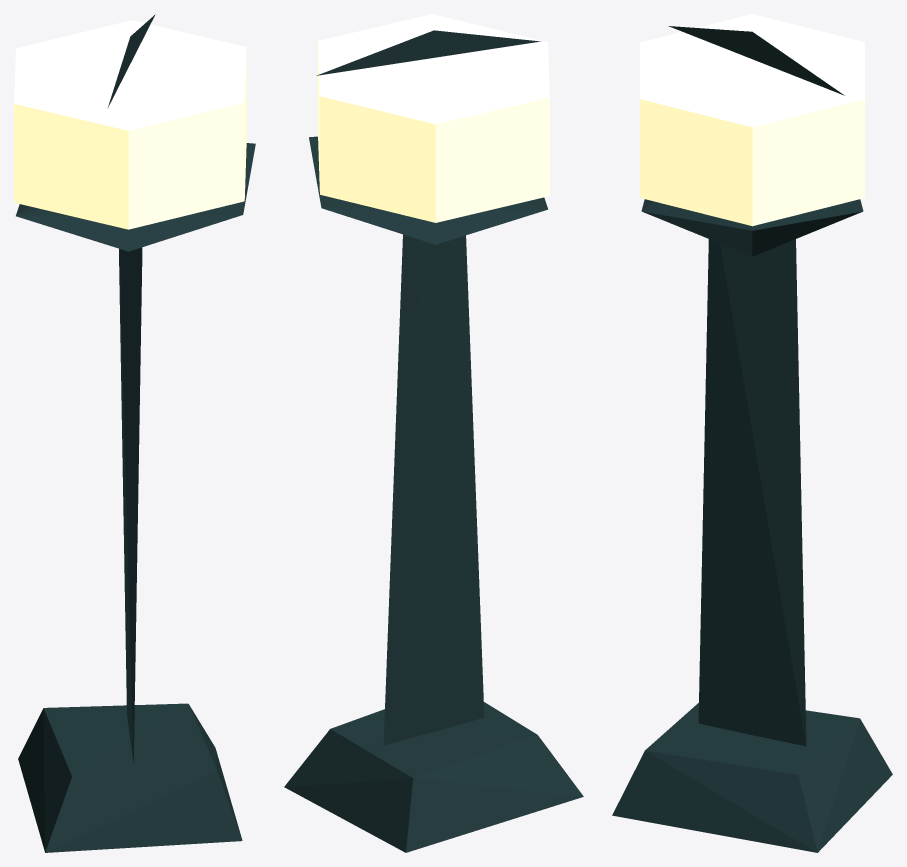
File: lamp_bollard_low.fbx
The picture shows the model from 3 angles, left to right: view 1: azimuth 30°, elevation 25°; view 2: azimuth 150°, elevation 25°; view 3: azimuth 270°, elevation 25°; orthographic projection.
Visible parts, largest first — view 1: lamp_bollard_low; view 2: lamp_bollard_low; view 3: lamp_bollard_low.
Boxes of the visible parts, bbox=[...] form: lamp_bollard_low: bbox=[14, 14, 255, 852]; lamp_bollard_low: bbox=[284, 14, 583, 852]; lamp_bollard_low: bbox=[612, 14, 892, 852].
Bounding box in the file's own units: 0.3 × 0.9 × 0.3.
